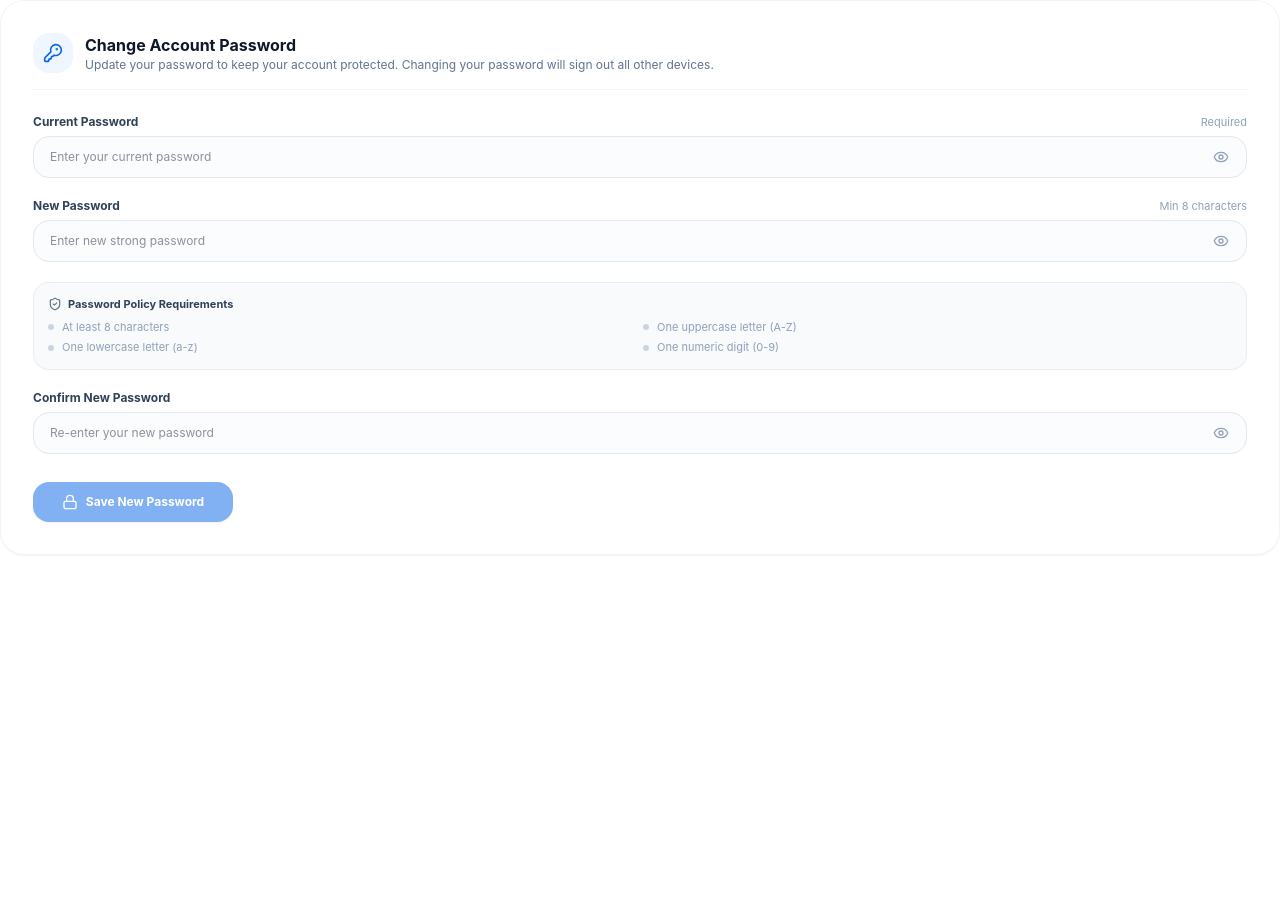
Test case: ChangePasswordForm Component › displays error alert when backend rejects current password
Type "WrongPass123!" into the password field with placeholder "Enter your current password" at (640, 157), box [33,136,1247,178]
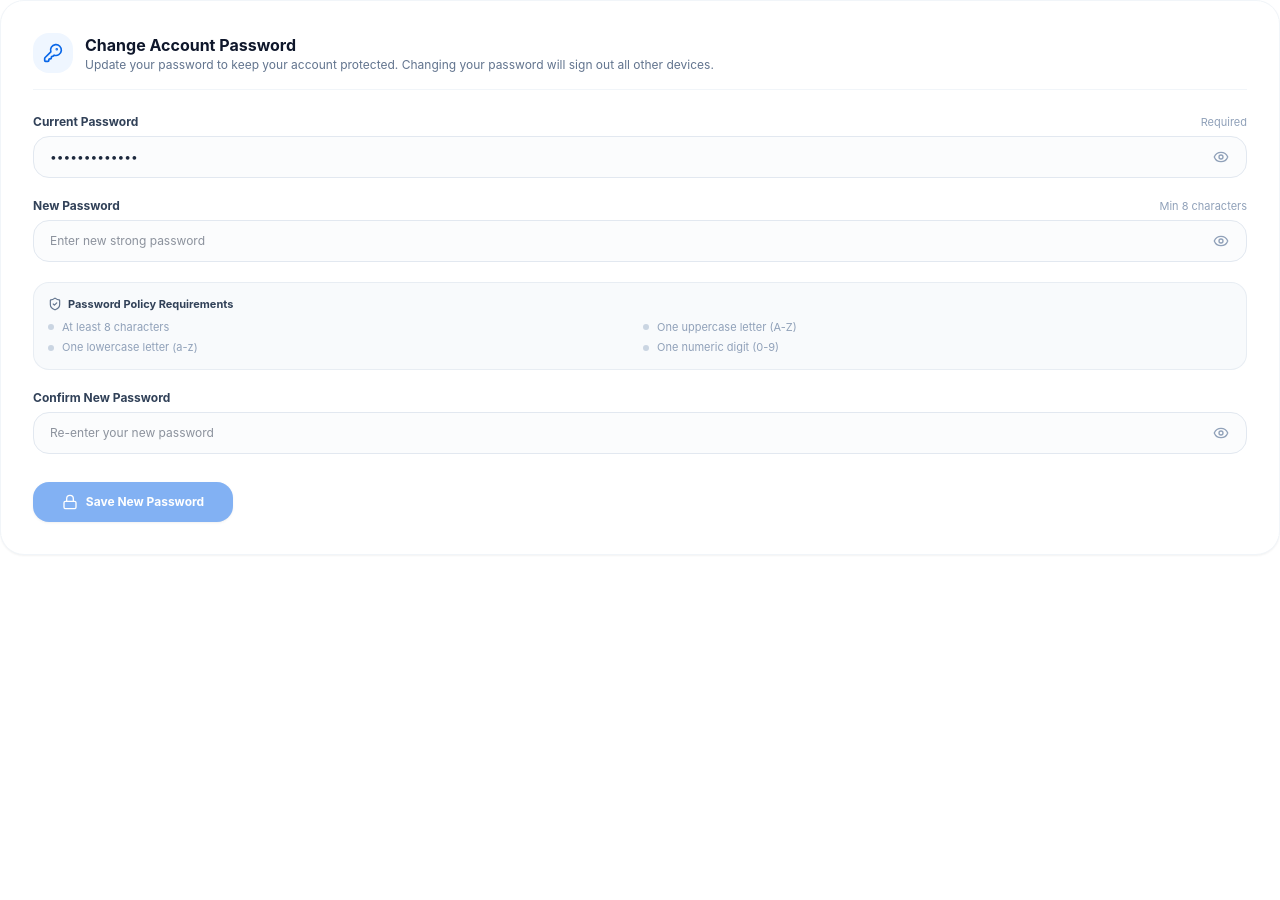
Type "NewStrongPass123!" into the password field with placeholder "Enter new strong password" at (640, 241), box [33,220,1247,262]
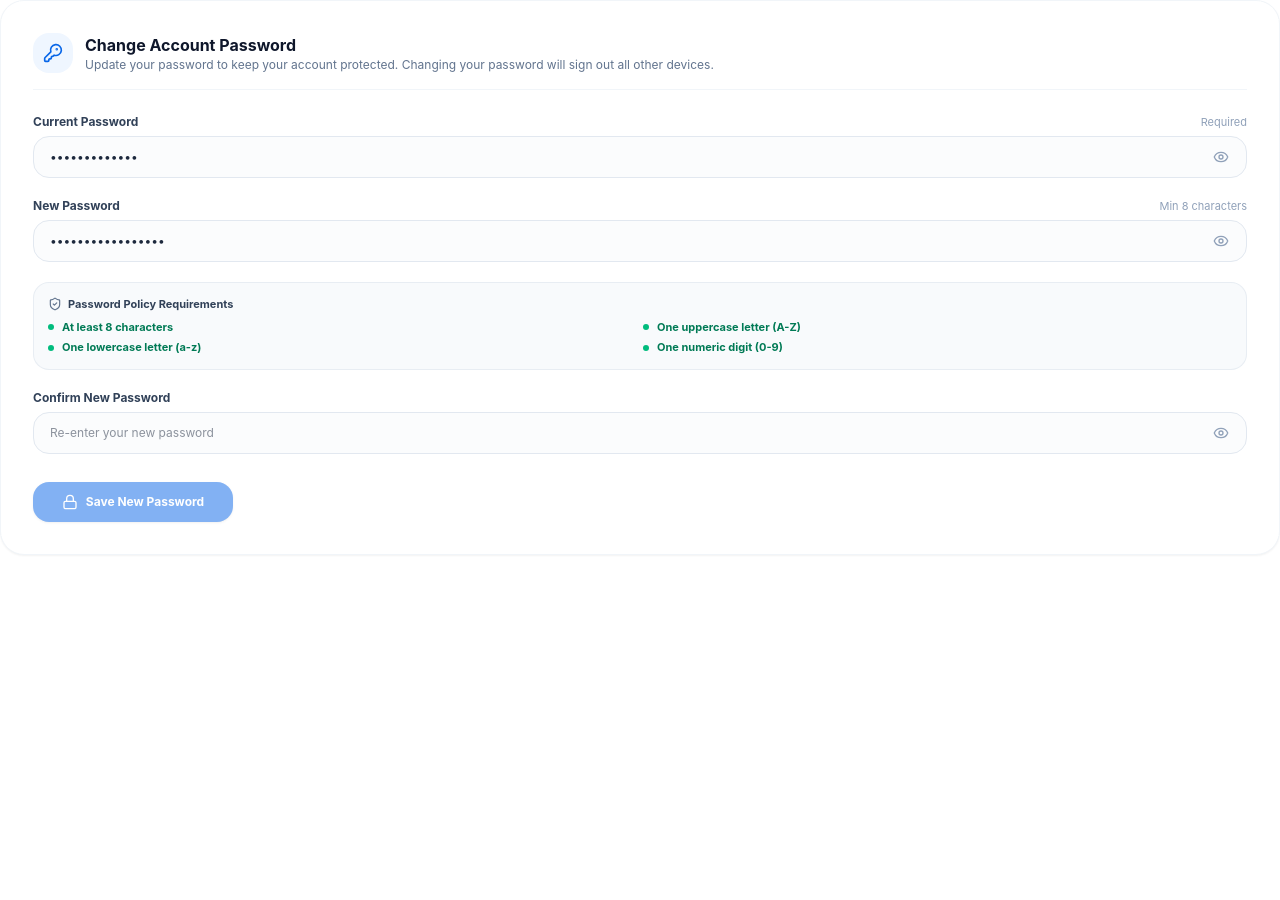
Type "NewStrongPass123!" into the password field with placeholder "Re-enter your new password" at (640, 433), box [33,412,1247,454]
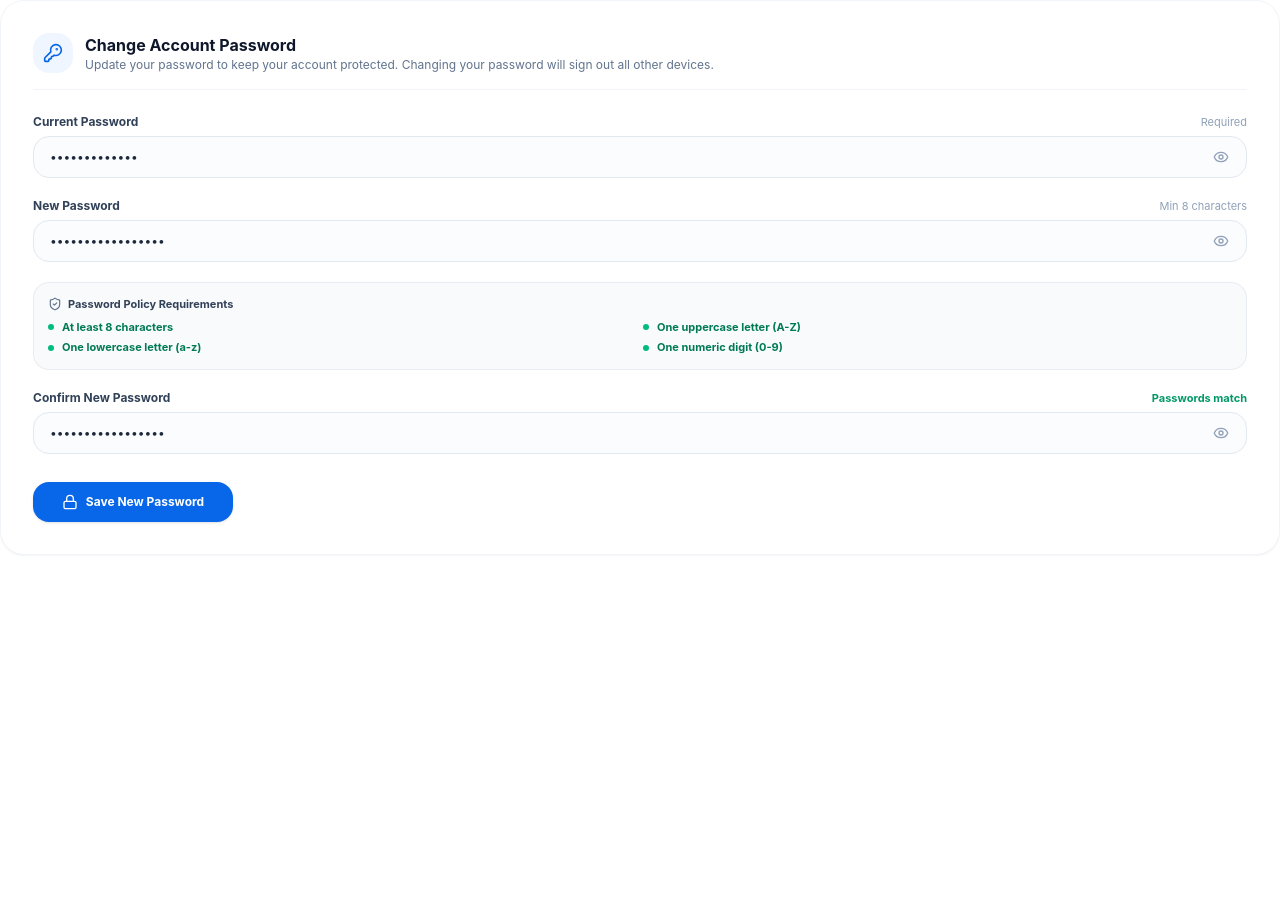
Click the button named "save new password" at (133, 502), box [33,482,233,522]
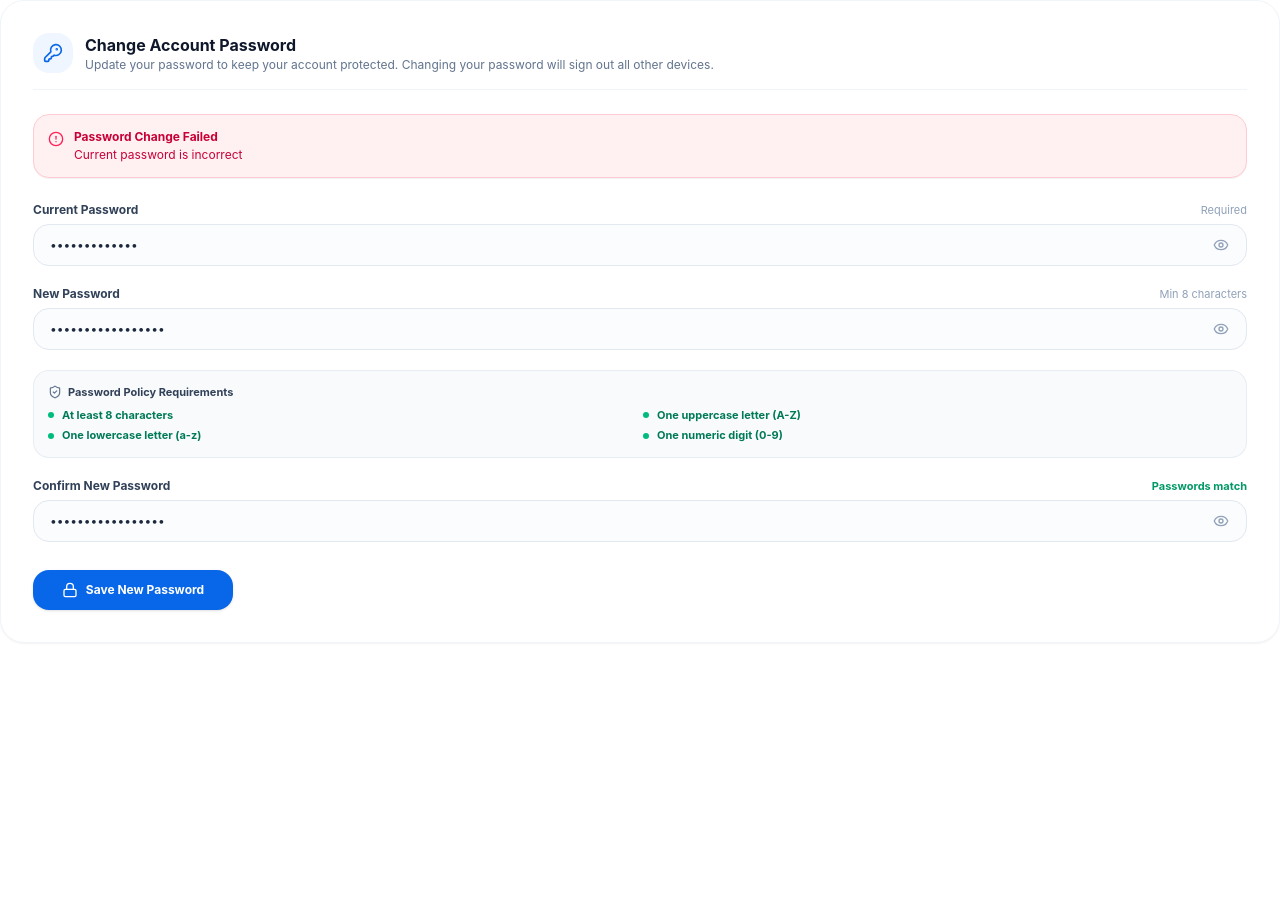
Expected: the 3rd text "Current password is incorrect" is shown, [74,147,242,162]
